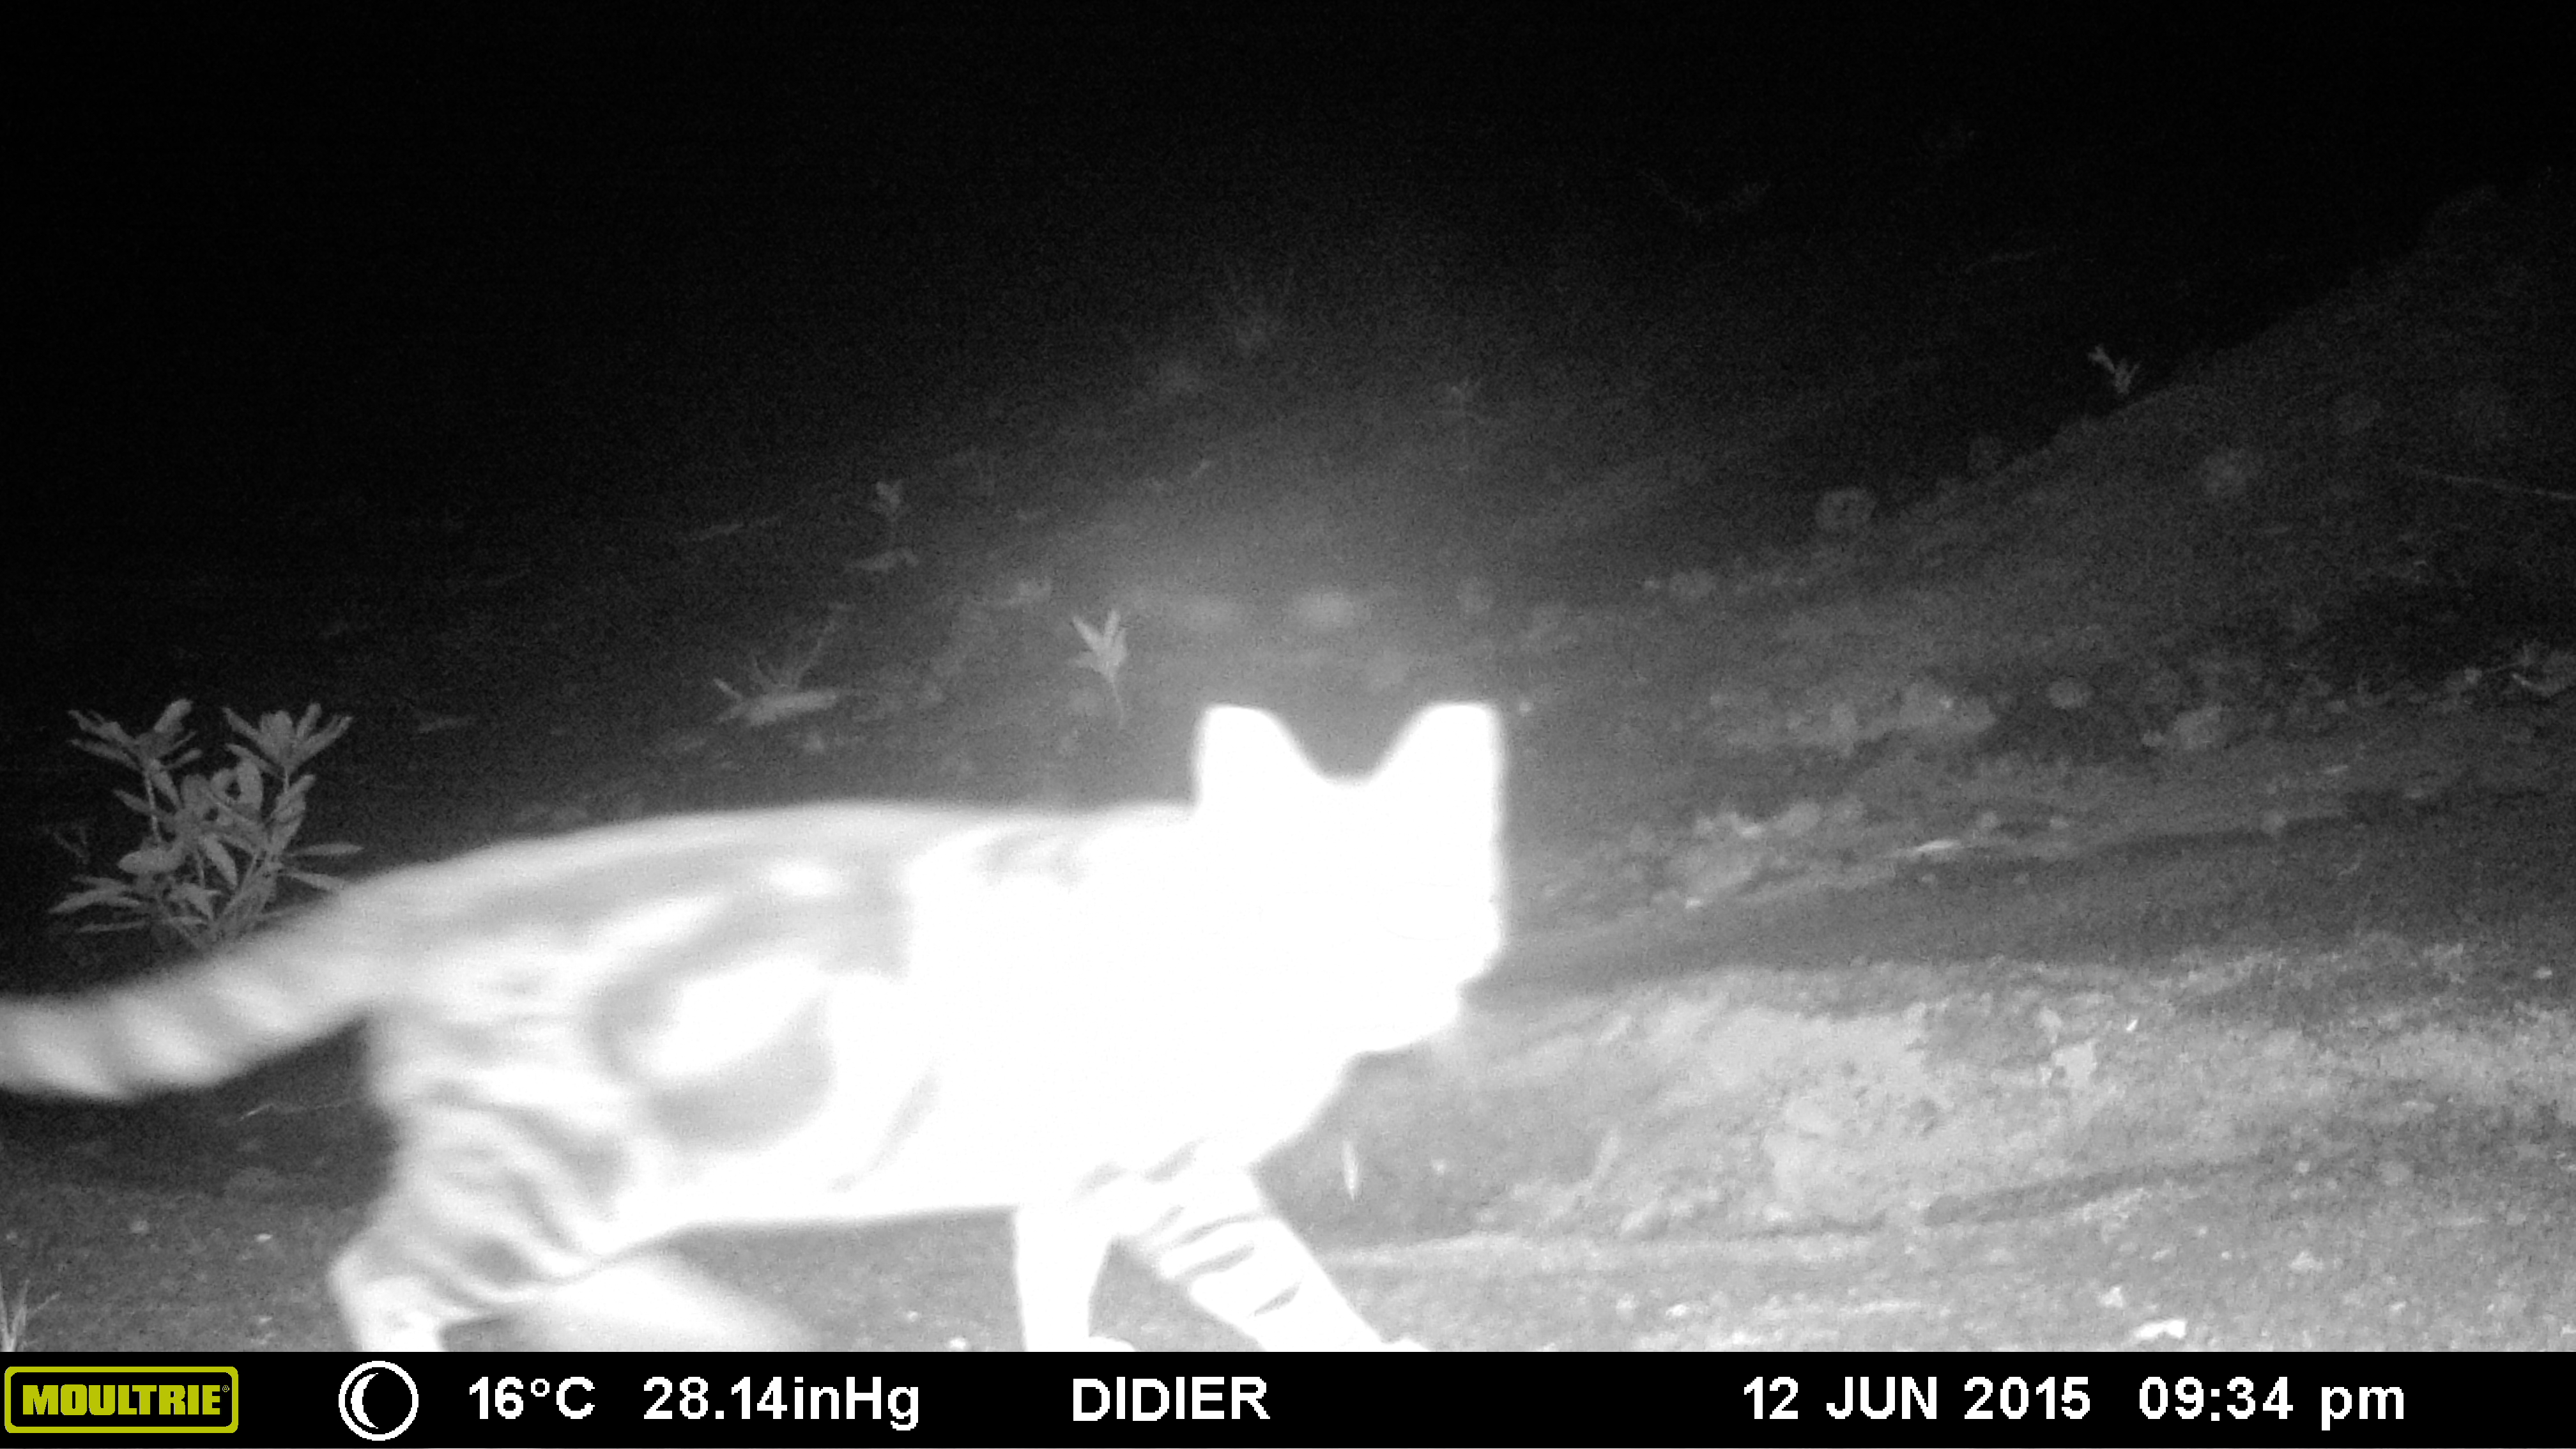cat: (7, 695, 1530, 1345)
